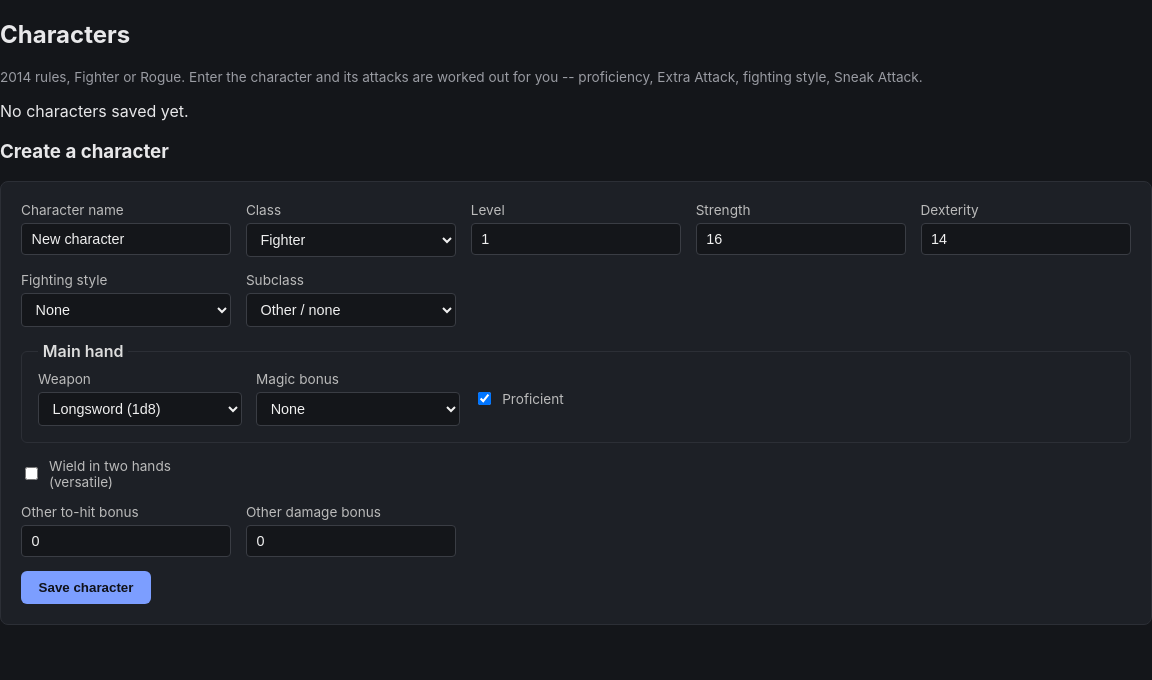
Test: CharactersPanel › creates, edits and deletes characters
Expected: the text "No characters saved yet." is shown, x1=0 y1=101 x2=189 y2=121
Click the button "Save character": (86, 588) x1=21 y1=572 x2=151 y2=604
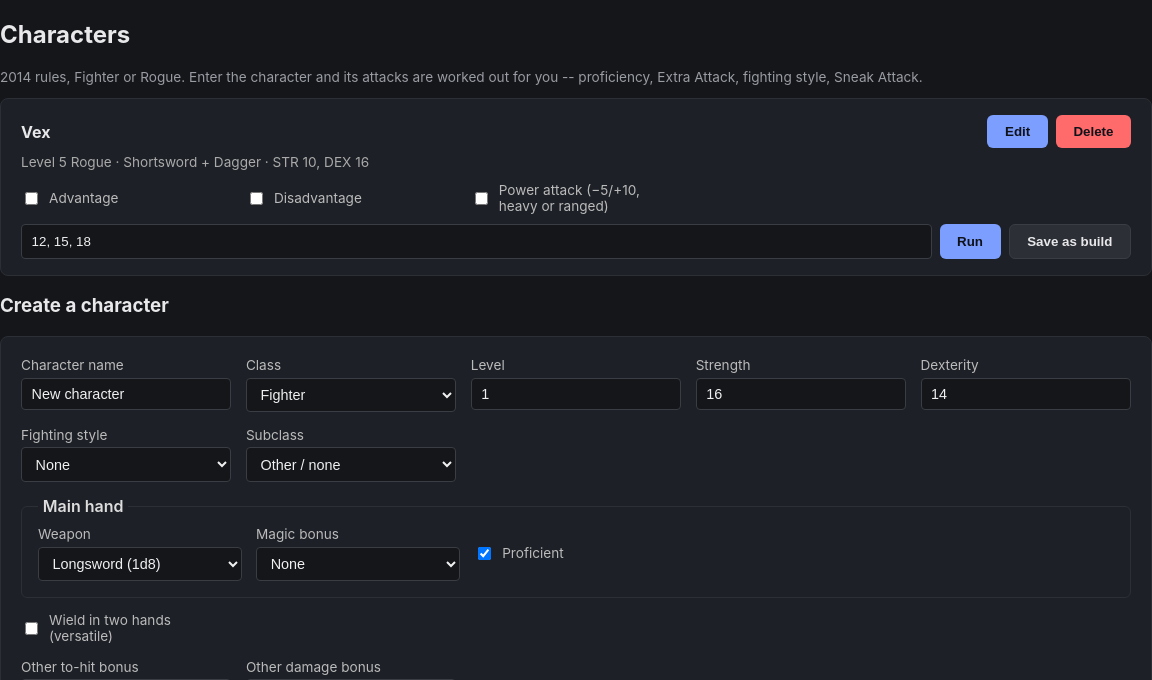
Expected: the text "Vex" is shown, x1=21 y1=122 x2=50 y2=142
Click the button "Edit": (1018, 132) x1=987 y1=115 x2=1048 y2=148
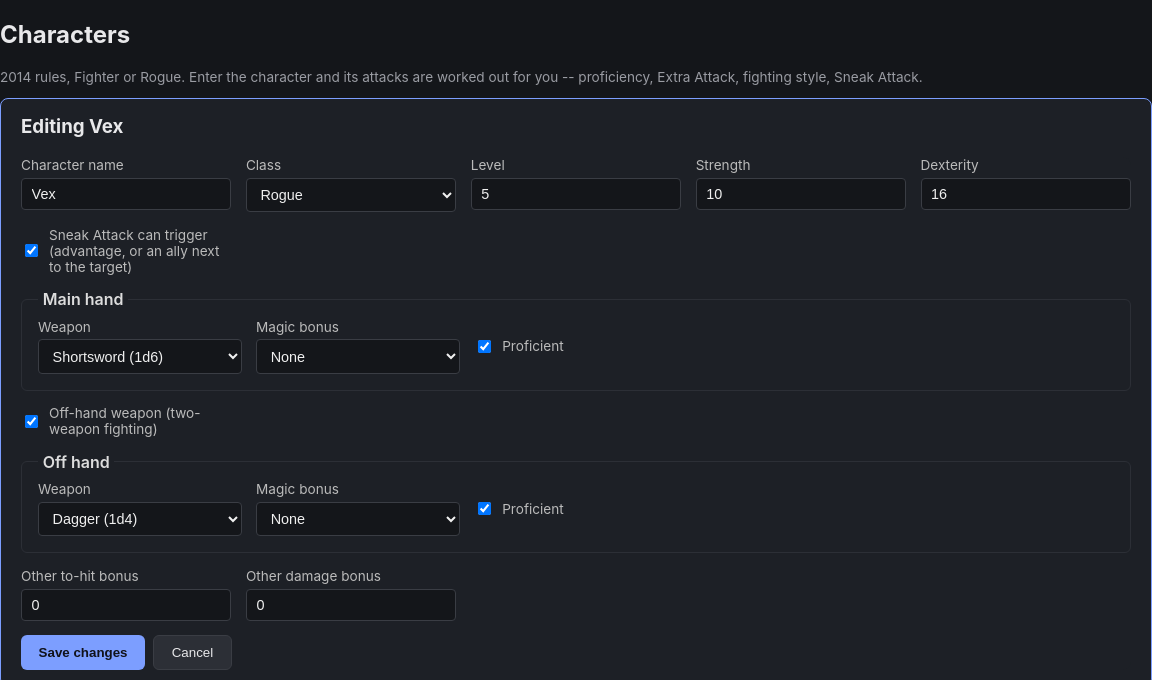
Expected: the dropdown labelled "Class" shows "Rogue", x1=246 y1=178 x2=456 y2=212
Replace the text in the number field labelled "Level" with "6": (576, 194) x1=471 y1=178 x2=681 y2=210
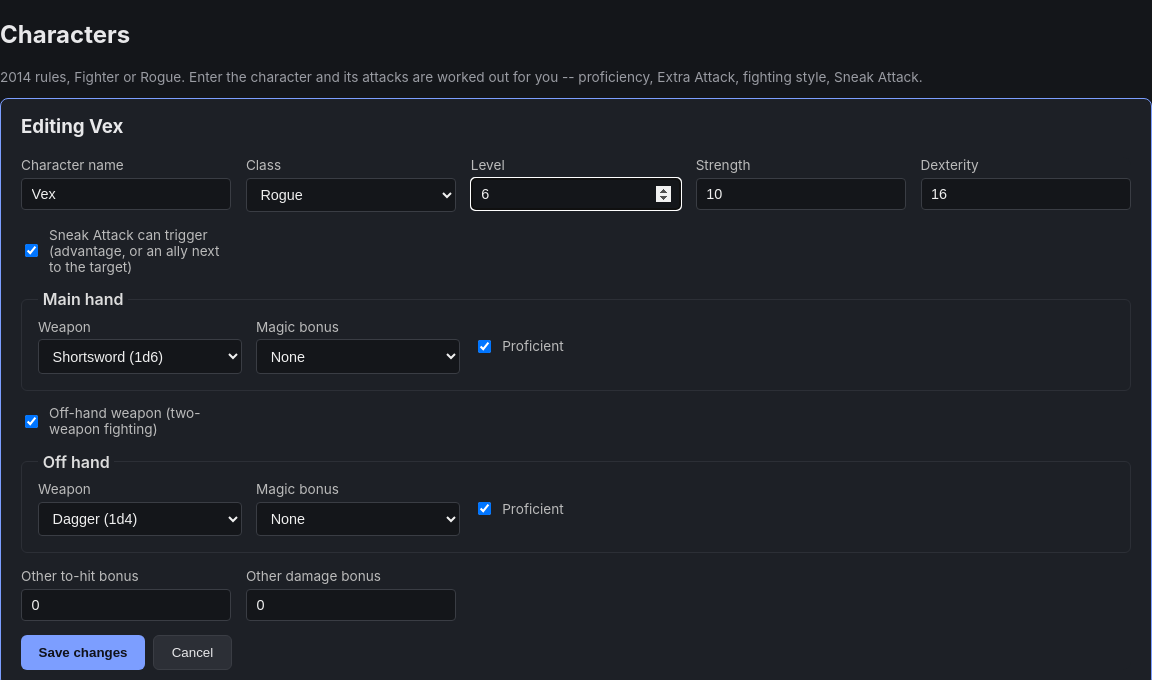
Click the button "Save changes": (83, 653) x1=21 y1=635 x2=145 y2=670
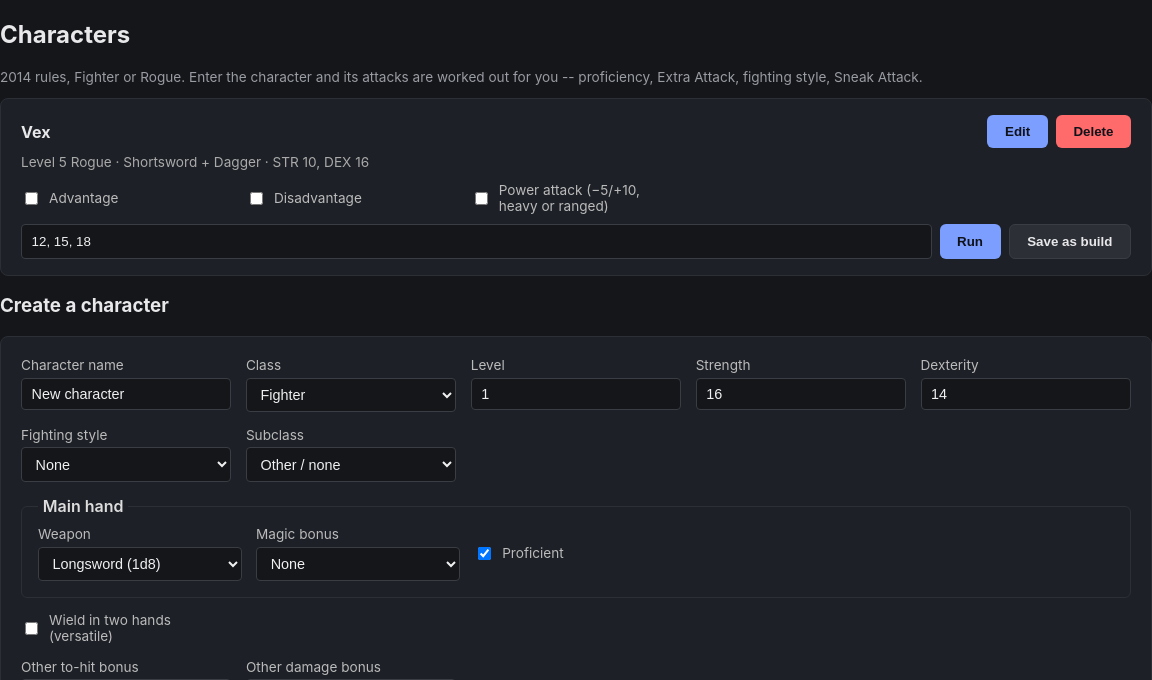
Click the button "Delete": (1093, 132) x1=1056 y1=115 x2=1131 y2=148
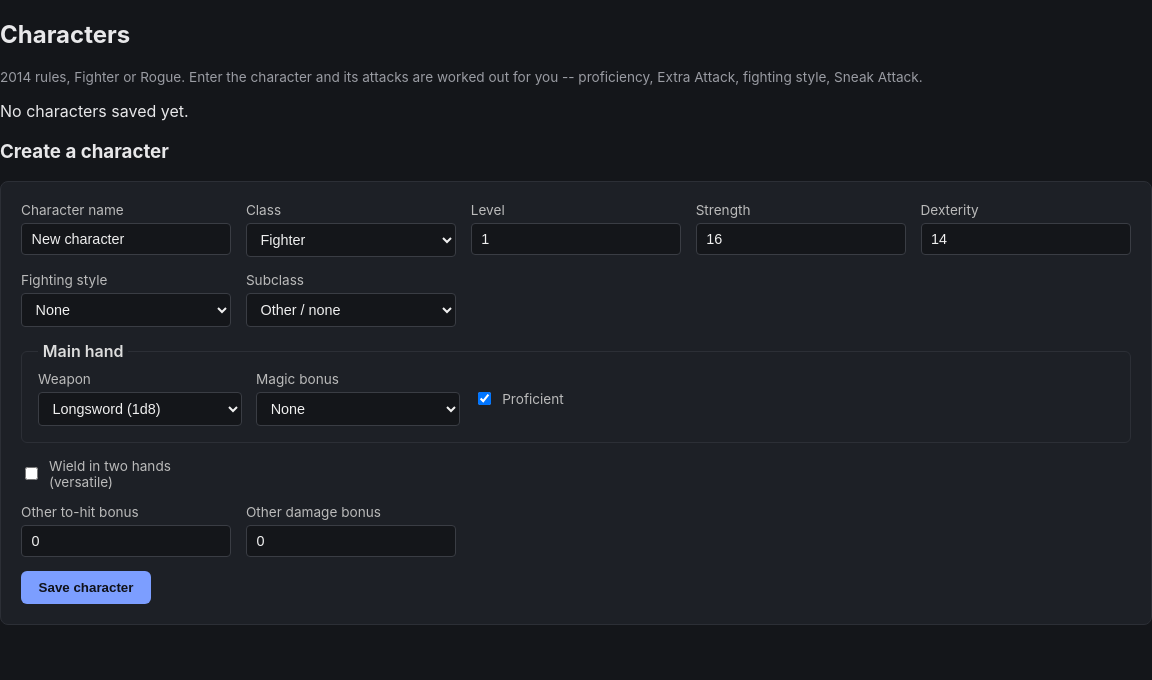
Expected: the text "No characters saved yet." is shown, x1=0 y1=101 x2=189 y2=121
